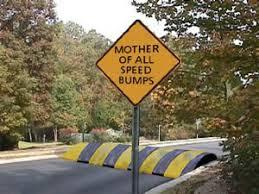Bump: (61, 135, 220, 182)
